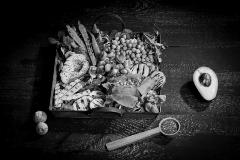organic: (192, 63, 226, 103), (78, 22, 103, 62), (61, 52, 90, 80), (33, 108, 49, 122), (33, 122, 50, 134)
